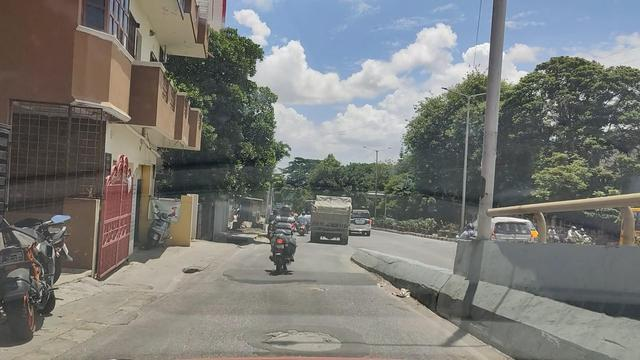HMV: (308, 192, 355, 245)
LMV: (143, 199, 181, 255)
RoadDamages: (234, 319, 368, 360), (300, 282, 340, 303), (178, 256, 208, 281)
